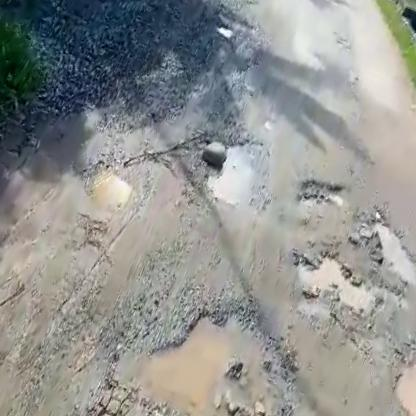pothole: (76, 266, 334, 416), (280, 239, 386, 325), (198, 126, 282, 218), (352, 209, 416, 289), (83, 161, 138, 216), (383, 341, 416, 416)
